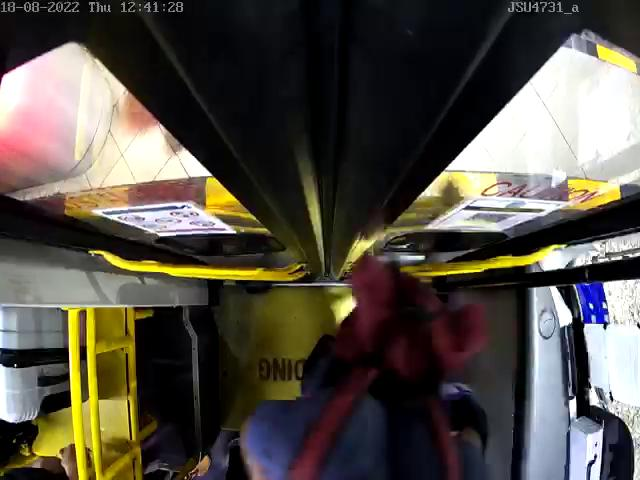close: (0, 0, 640, 209)
